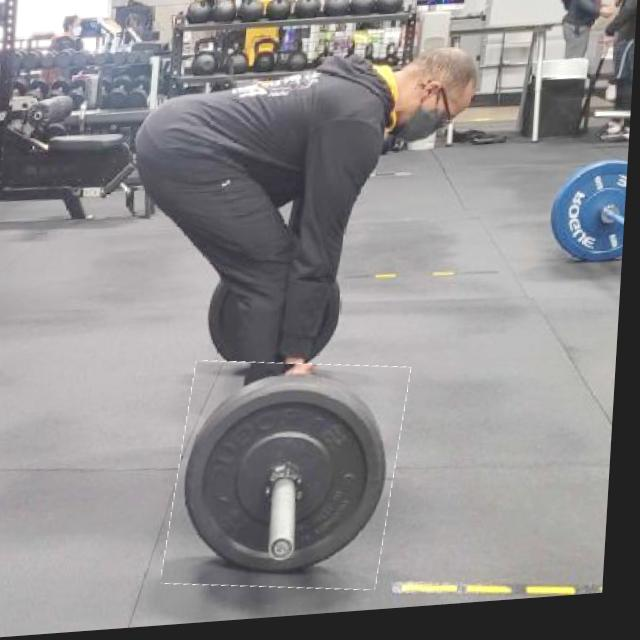barbell: (174, 359, 413, 604)
